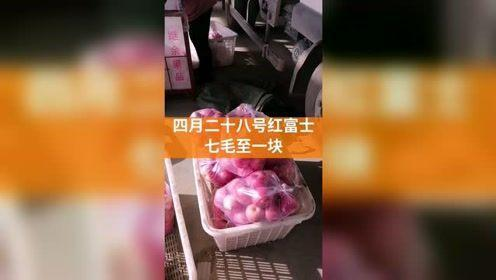apple: (245, 203, 264, 222)
